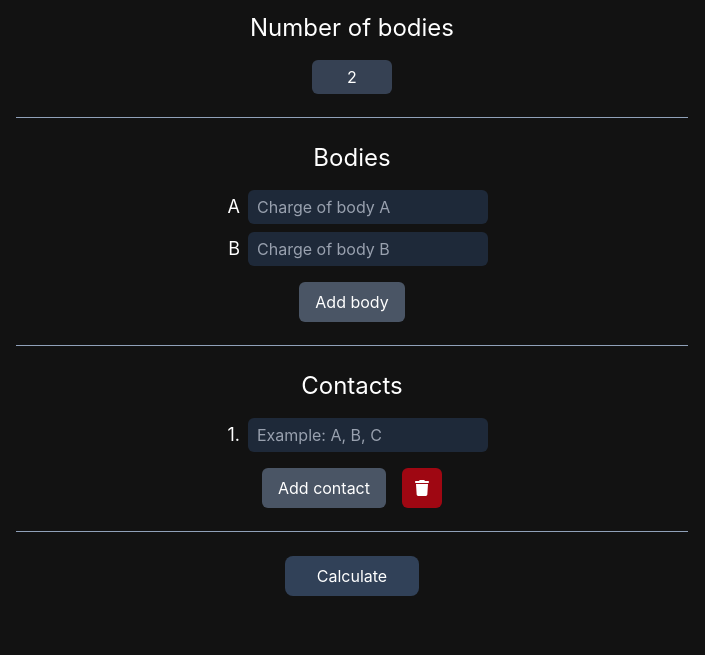
Test: Calculator › clears the contacts
The width and height of the screenshot is (705, 655).
Type "A, B" into the field named "Contact 1" at [368, 435], box [248,418,488,452]
Then press Enter
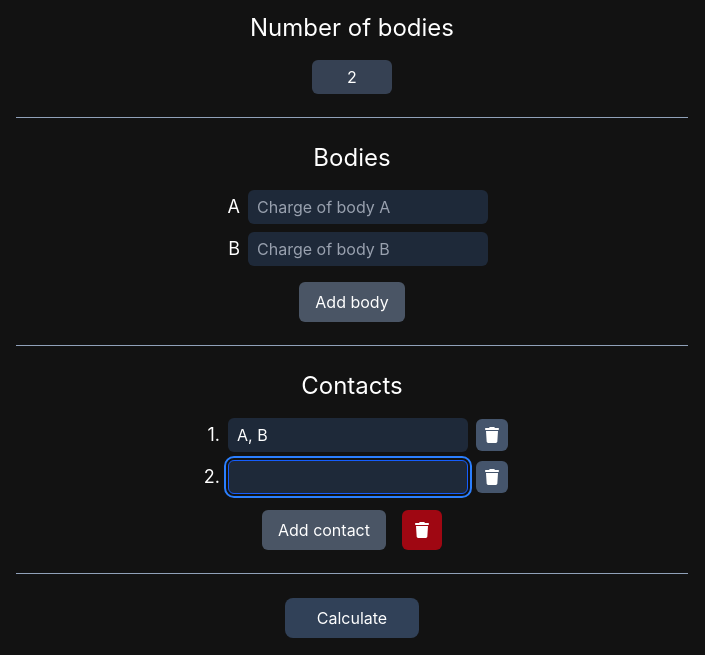
Type "A, B" into the field labelled "2." at [348, 477], box [228,460,468,494]
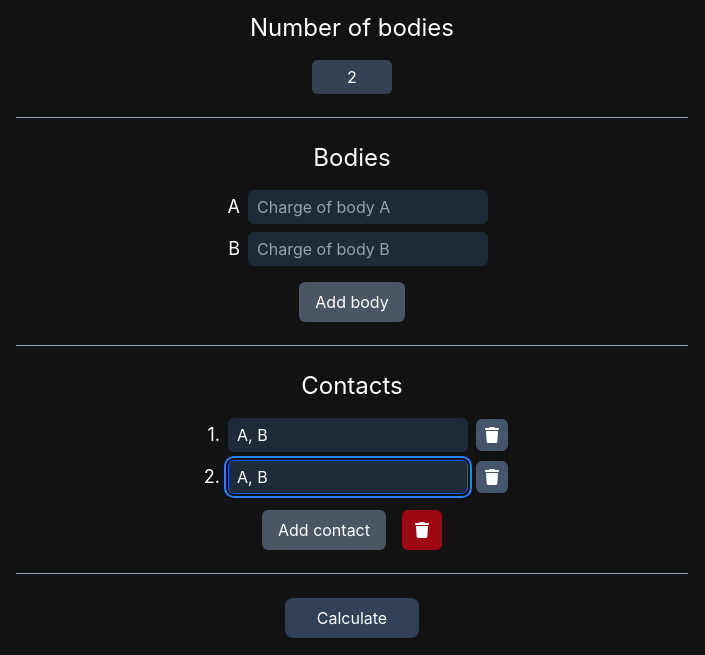
Click the button named "Clear contacts" at [422, 530], box [402,510,442,550]
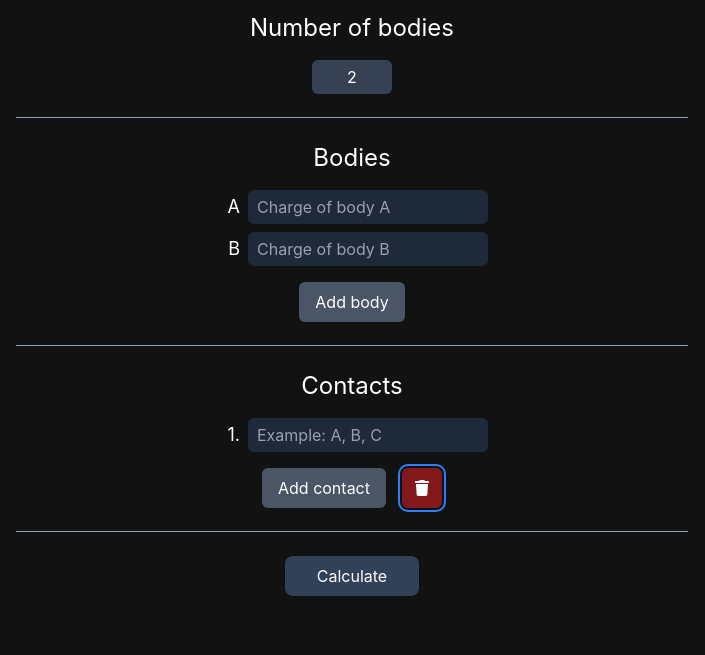
Expected: the number of fields named "Contact" is 1, [248,418,488,452]
Expected: the field named "Contact 1" is empty, [248,418,488,452]
